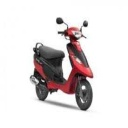bike: (28, 20, 108, 112)
